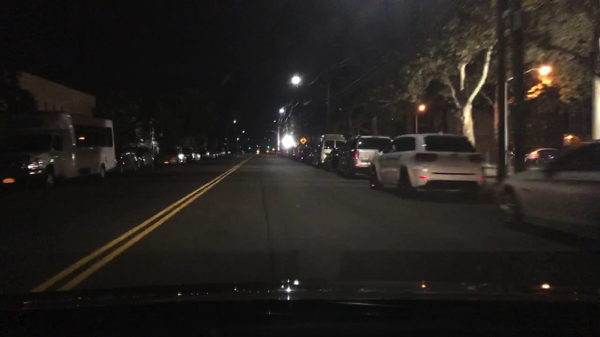car: (494, 139, 598, 244), (368, 132, 487, 202), (335, 133, 396, 180), (506, 145, 556, 171), (312, 132, 346, 166), (121, 148, 155, 176), (159, 148, 186, 168), (324, 148, 338, 173), (301, 146, 317, 165), (291, 148, 310, 162), (187, 147, 200, 164), (199, 148, 211, 161), (223, 147, 233, 159), (286, 146, 296, 158), (209, 151, 222, 160), (257, 148, 269, 155), (273, 148, 282, 156), (279, 148, 287, 155)
traffic light: (247, 146, 252, 151), (266, 145, 270, 150)
traffic sign: (299, 137, 306, 145)
truck: (1, 110, 119, 190)
